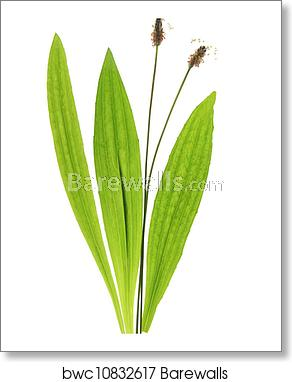buckhorn plantain: (40, 9, 225, 310)
